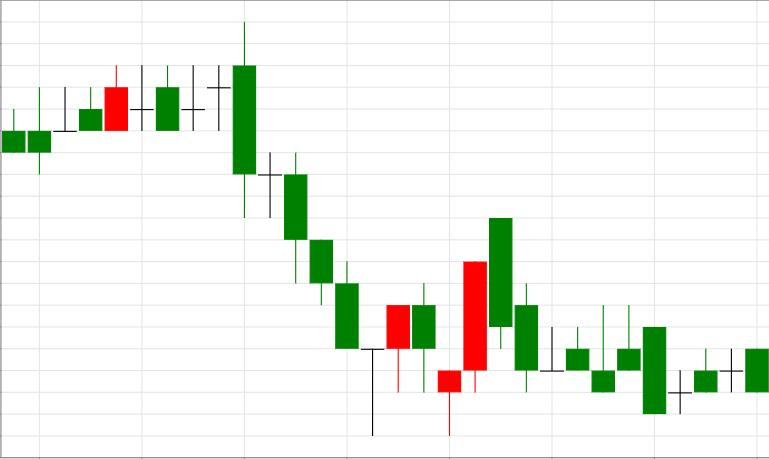morning_star_rise: (208, 21, 409, 436)
